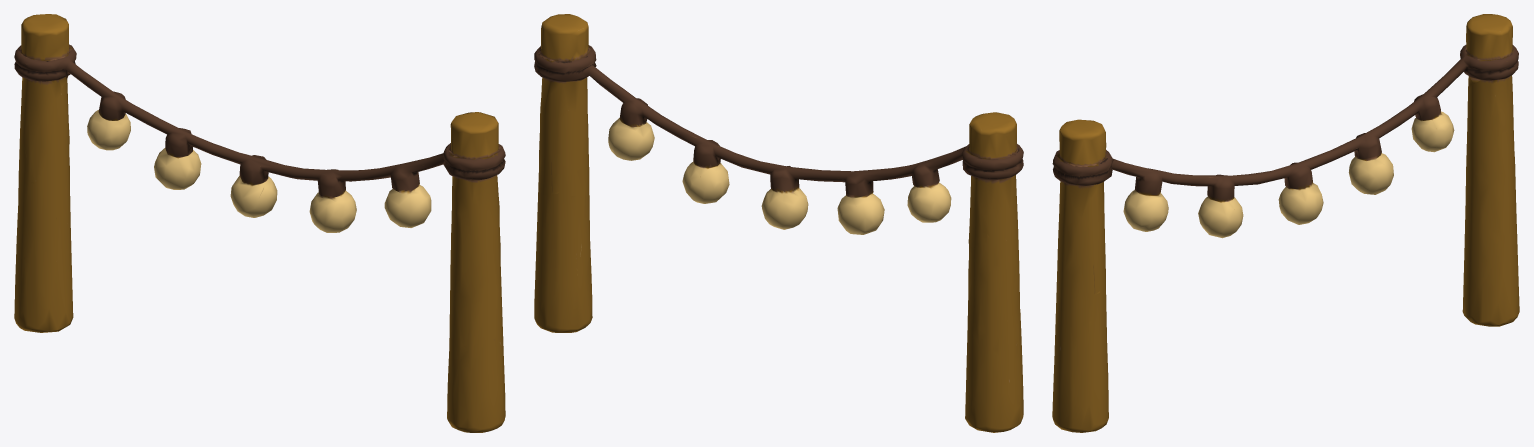
File: f-lights.glb
3 views of the same model, side by side, from view 1: azimuth 30°, elevation 25°; view 2: azimuth 210°, elevation 25°; view 3: azimuth 270°, elevation 25° (orthographic). The views are drawn at different scales.
Parts seen in each view (by area): view 1: tripo_node_b7fed9fd-5d3f-4a95-bf50-2d89258e7336; view 2: tripo_node_b7fed9fd-5d3f-4a95-bf50-2d89258e7336; view 3: tripo_node_b7fed9fd-5d3f-4a95-bf50-2d89258e7336.
Part boxes in pixels (x1=…): tripo_node_b7fed9fd-5d3f-4a95-bf50-2d89258e7336: x1=14, y1=14, x2=505, y2=432; tripo_node_b7fed9fd-5d3f-4a95-bf50-2d89258e7336: x1=534, y1=14, x2=1023, y2=432; tripo_node_b7fed9fd-5d3f-4a95-bf50-2d89258e7336: x1=1052, y1=14, x2=1519, y2=432.
Size of the model in its own units: 0.6659 by 0.7017 by 1.
Materials: 1 (1 with a texture image).
